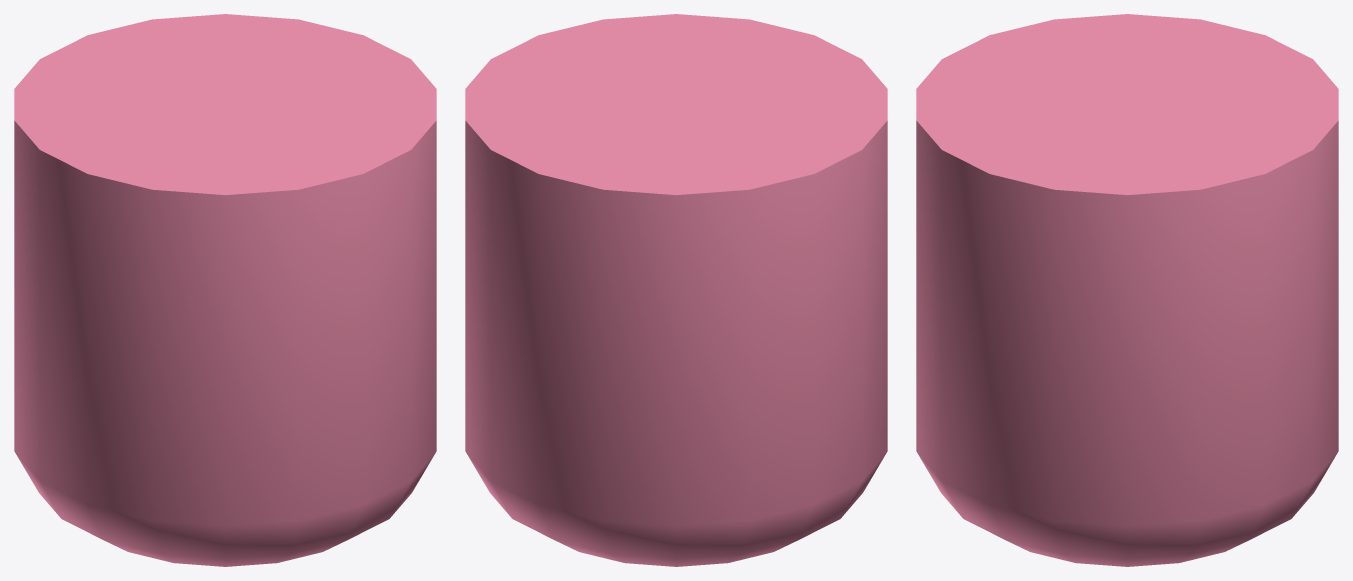
The model's file is bottle.FBX.
The picture shows the model from 3 angles, left to right: view 1: azimuth 30°, elevation 25°; view 2: azimuth 150°, elevation 25°; view 3: azimuth 270°, elevation 25°; orthographic projection.
Visible parts, largest first — view 1: Object002; view 2: Object002; view 3: Object002.
Part boxes in pixels (box(x1,y1,x2,y2)): Object002: box(14, 14, 436, 566); Object002: box(465, 14, 887, 566); Object002: box(916, 14, 1338, 566).
Bounding box in the file's own units: 524 × 537 × 516.
